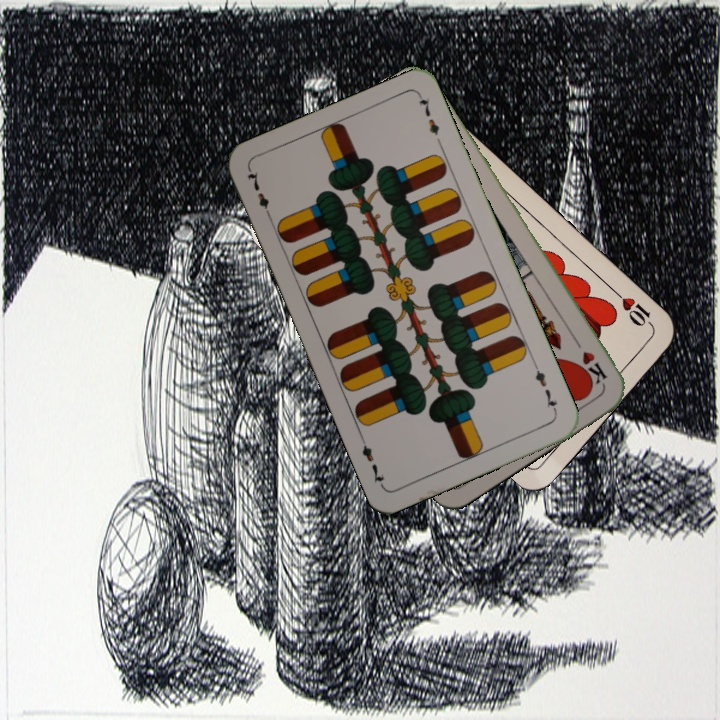E7: (243, 166, 274, 221), (530, 359, 560, 415)
H10: (610, 287, 657, 332)
HK: (569, 333, 610, 388)
